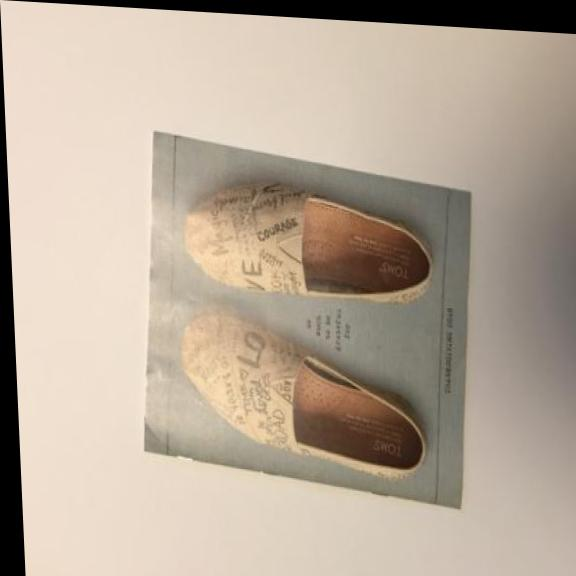Kertas: (122, 110, 494, 513)
